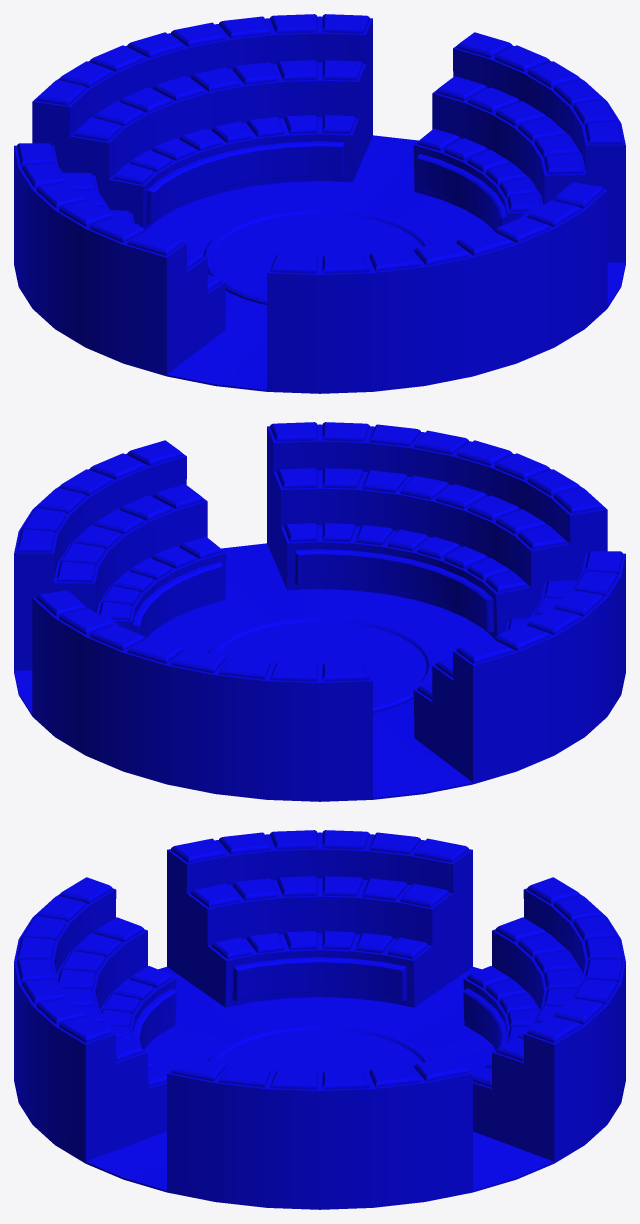
The model's file is Stage_DEF.fbx.
The picture shows the model from 3 angles, top to bottom: view 1: azimuth 30°, elevation 25°; view 2: azimuth 150°, elevation 25°; view 3: azimuth 270°, elevation 25°; orthographic projection.
Parts seen in each view (by area): view 1: Stage_LP (×4); view 2: Stage_LP (×4); view 3: Stage_LP (×4).
Part boxes in pixels (left/top/right/bottom): Stage_LP (×4): left=14, top=14, right=625, bottom=393; Stage_LP (×4): left=14, top=422, right=625, bottom=801; Stage_LP (×4): left=14, top=830, right=625, bottom=1209.
Bounding box in the file's own units: 2613 × 582 × 2613.
